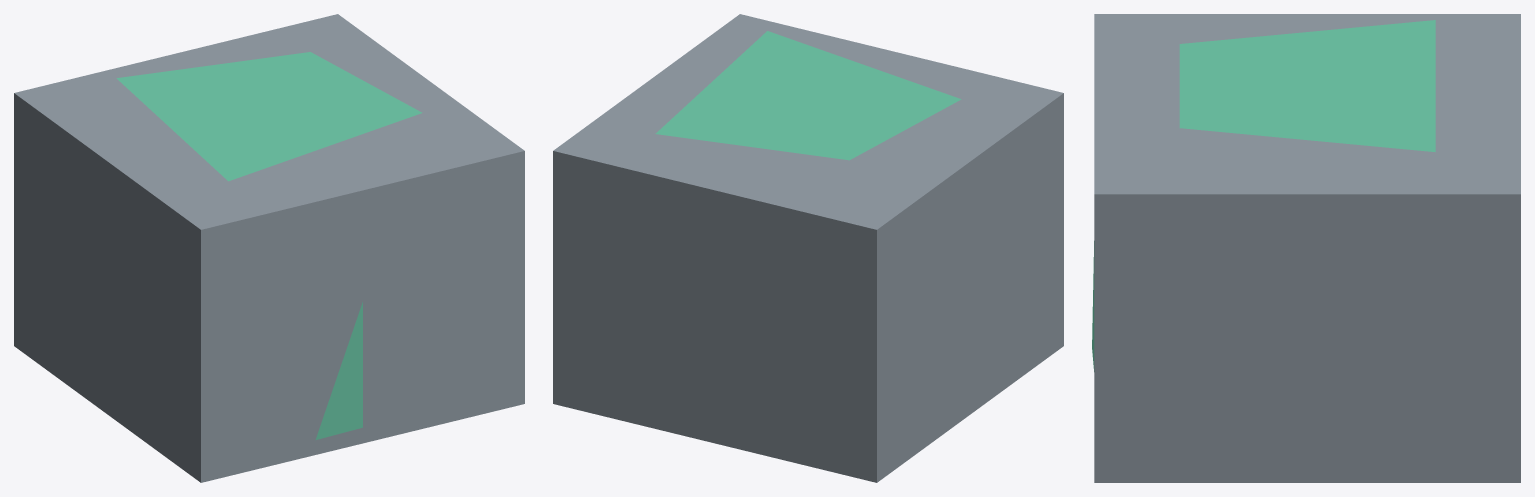
File: CO_TechCenter_LOD1.glb
3 renders of one model, left to right at view 1: azimuth 30°, elevation 25°; view 2: azimuth 150°, elevation 25°; view 3: azimuth 270°, elevation 25°, orthographic. The views are drawn at different scales.
Parts seen in each view (by area): view 1: EntranceGate; view 2: EntranceGate; view 3: EntranceGate.
Boxes of the visible parts, left/top/right/bottom form: EntranceGate: left=14, top=14, right=524, bottom=482; EntranceGate: left=553, top=14, right=1063, bottom=482; EntranceGate: left=1092, top=14, right=1520, bottom=482.
Bounding box in the file's own units: 600 × 495 × 603.
